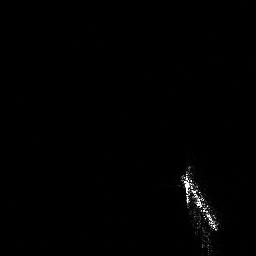ship: (179, 164, 222, 232)
